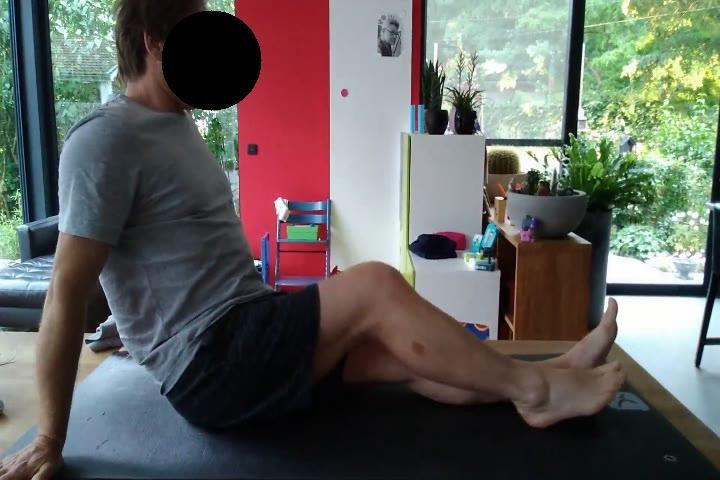lower_body: (162, 258, 624, 444)
